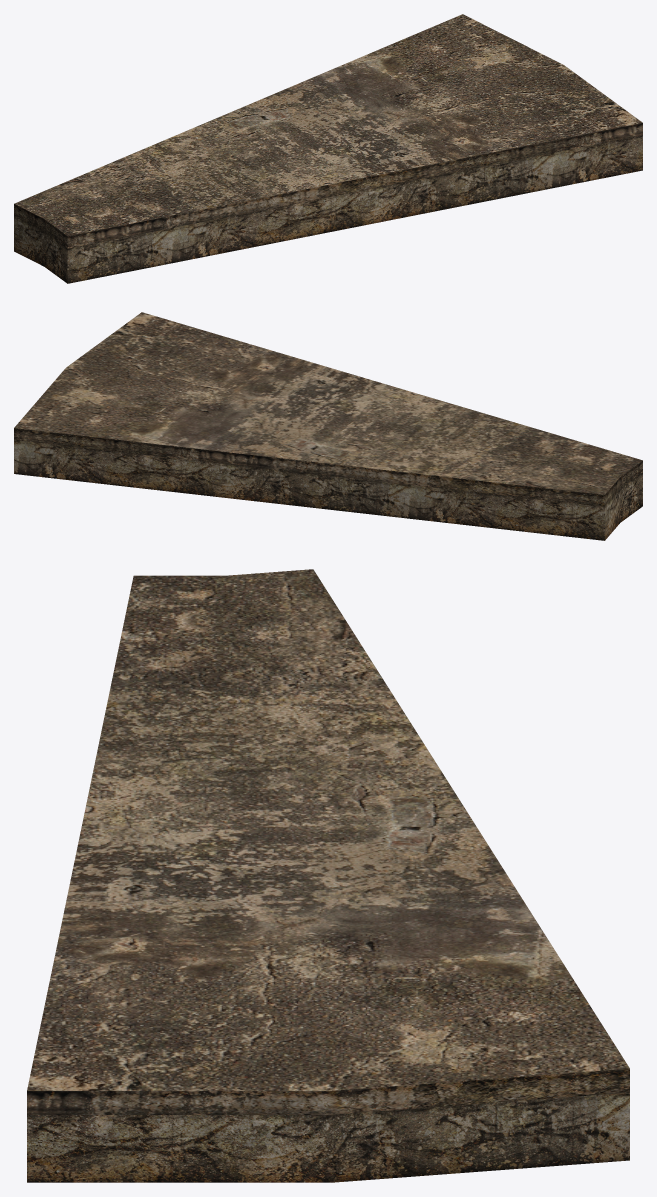
Rendered from materials_5_steps_11.fbx.
3 renders of one model, top to bottom at view 1: azimuth 30°, elevation 25°; view 2: azimuth 150°, elevation 25°; view 3: azimuth 270°, elevation 25°, orthographic. The views are drawn at different scales.
Visible parts, largest first — view 1: materials_5_steps_11; view 2: materials_5_steps_11; view 3: materials_5_steps_11.
Boxes of the visible parts, x1=… form: materials_5_steps_11: x1=14, y1=14, x2=642, y2=283; materials_5_steps_11: x1=14, y1=312, x2=642, y2=540; materials_5_steps_11: x1=27, y1=569, x2=629, y2=1182.
Size of the model in its own units: 85.65 by 7.03 by 41.84.
